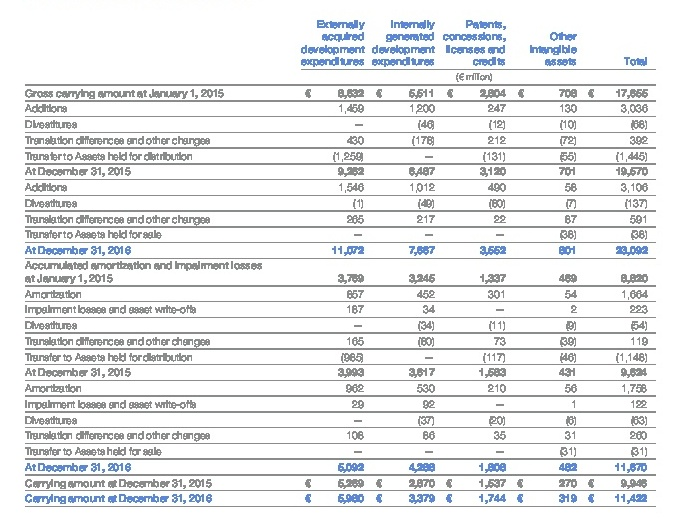table: (0, 0, 679, 521)
